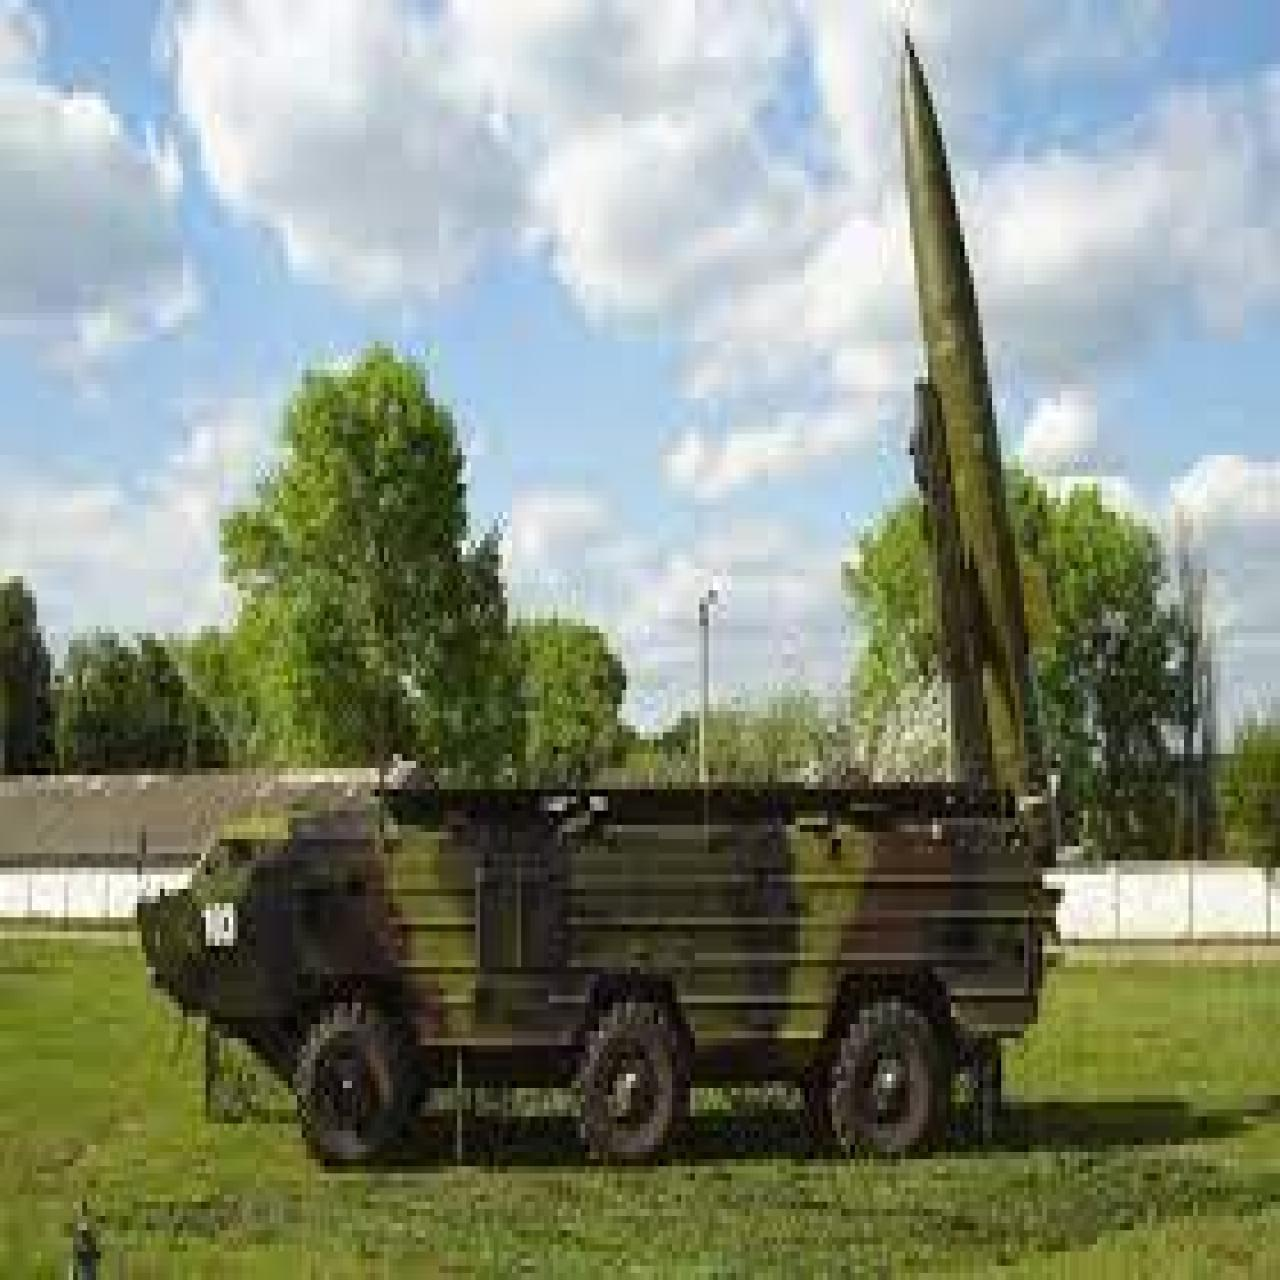MIL_Veh: (147, 41, 1051, 1156)
